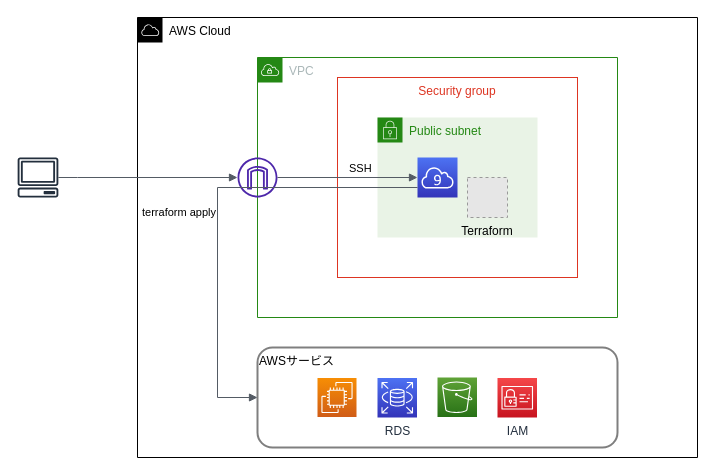
The diagram is 715 pixels wide and 475 high, and some of its shapes have lost their labels. Grey dashed boxes stand in for pictures. Each missing label, with the centre of its shape:
"Client" goes at point (37, 177).
"Cloud9" goes at point (437, 177).
"EC2" goes at point (336, 397).
"S3" goes at point (456, 396).
